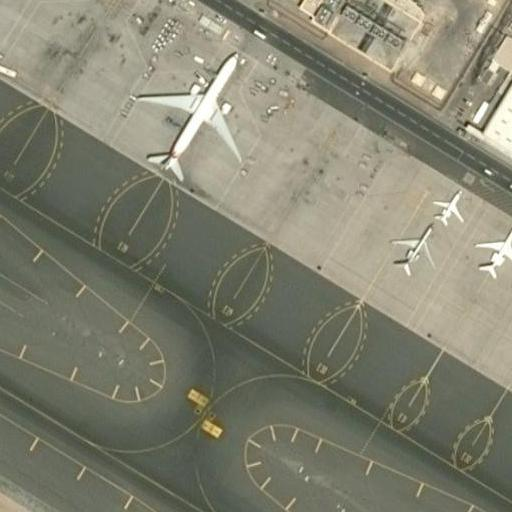Aircraft: (134, 45, 247, 179), (390, 226, 437, 274), (478, 219, 512, 279), (425, 184, 468, 226)
